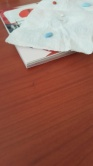Majezik: (43, 31, 53, 38)
